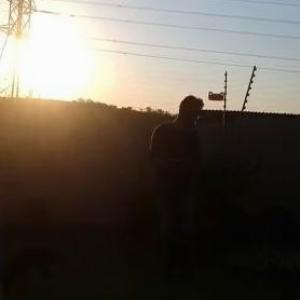follow: (142, 92, 208, 299)
